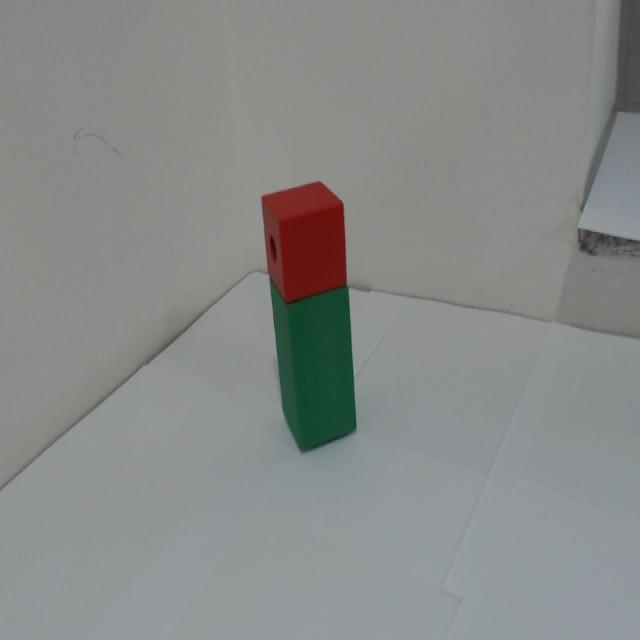cube: (266, 165, 361, 286)
